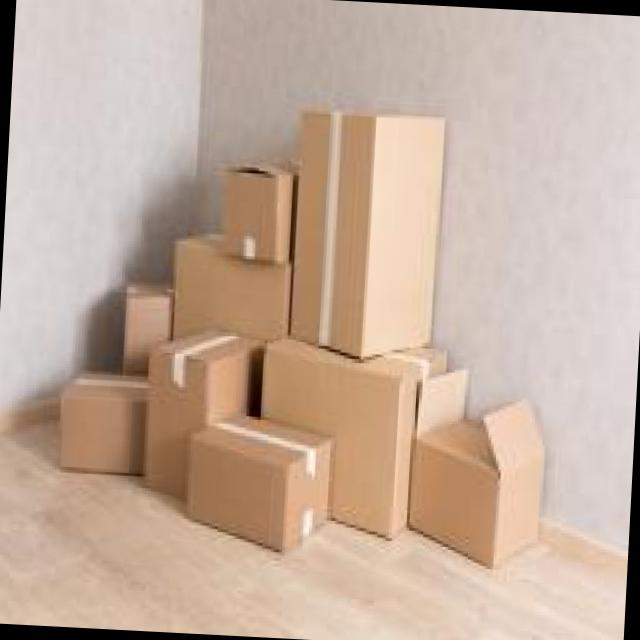box: (289, 107, 446, 363), (261, 336, 448, 537), (403, 364, 550, 572), (145, 329, 271, 514), (184, 414, 333, 552), (171, 233, 294, 375), (58, 370, 149, 481), (220, 159, 299, 263), (121, 279, 173, 380)
